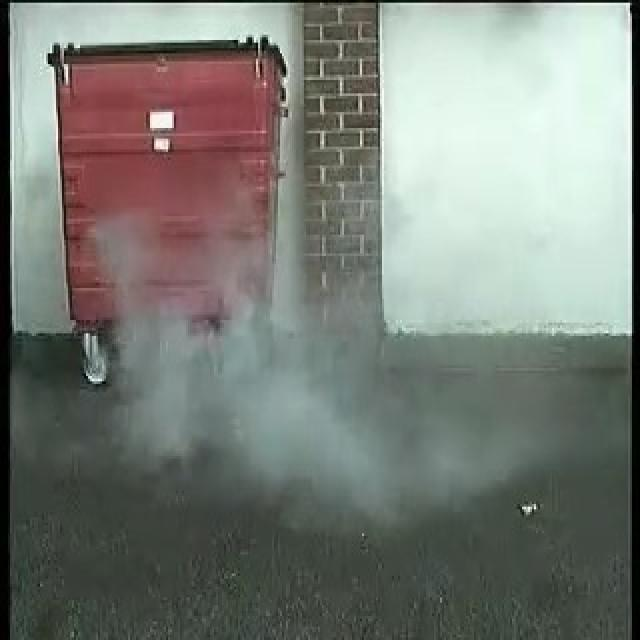Smoke: (114, 252, 394, 486)
